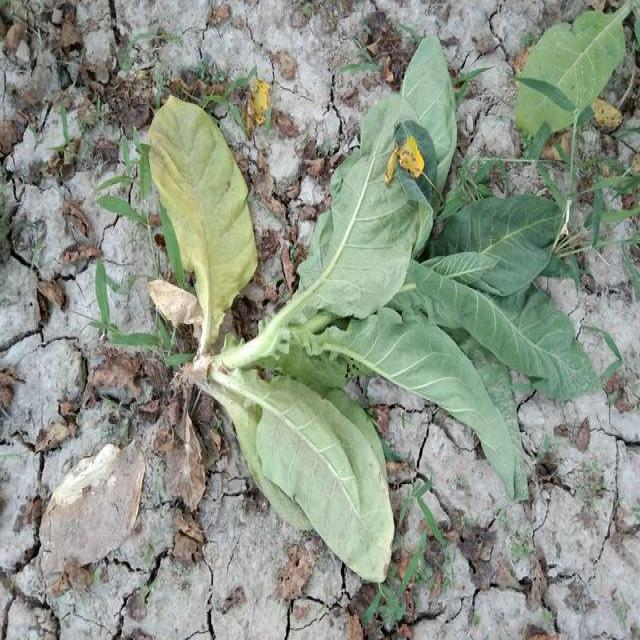crop: (112, 28, 607, 581)
